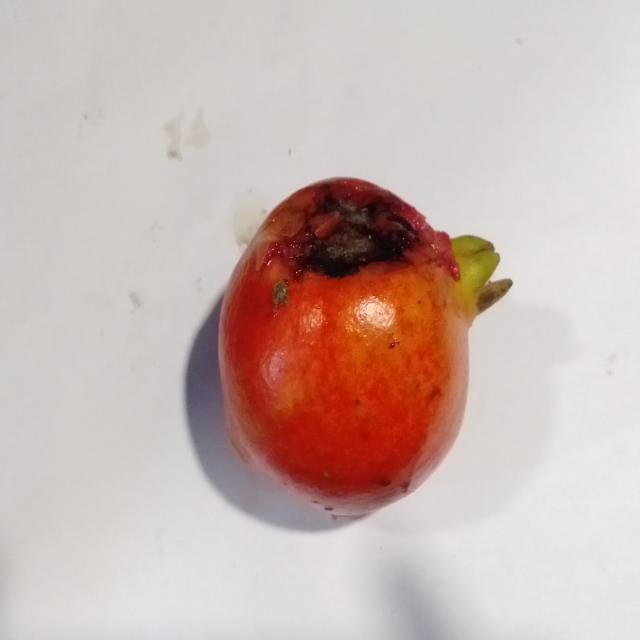Rotten: (214, 168, 489, 519)
